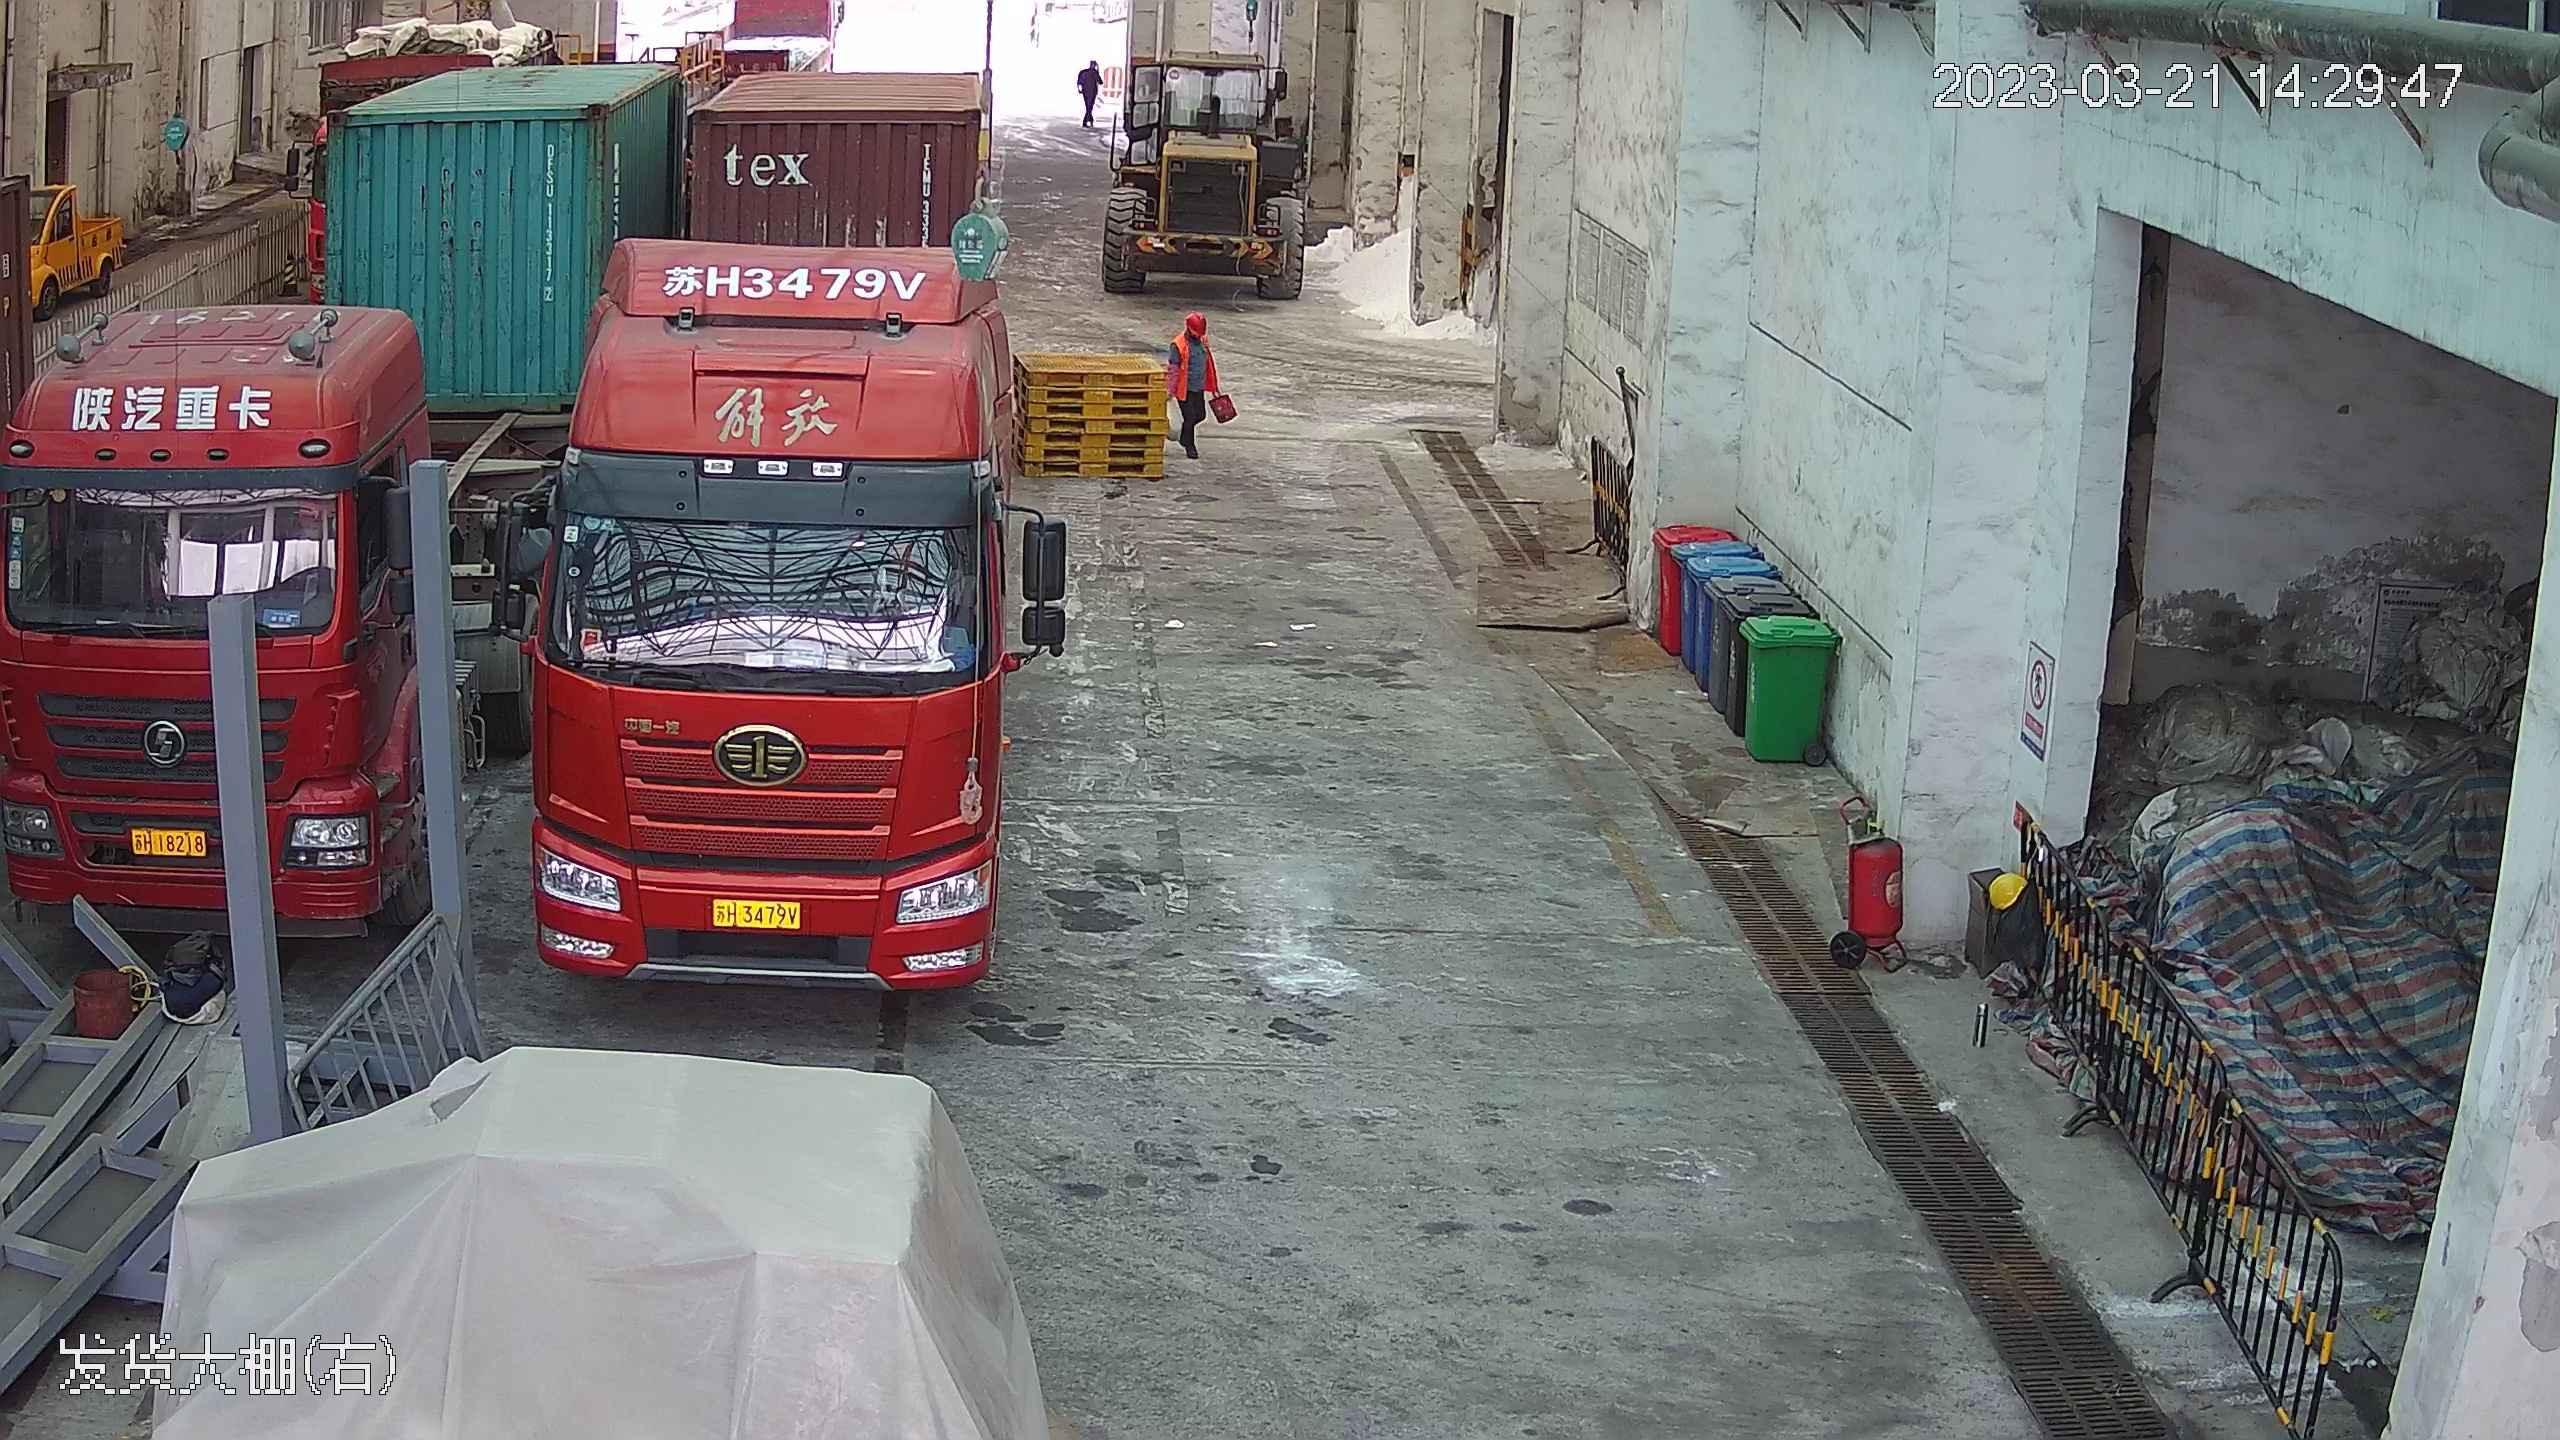head: (1172, 304, 1214, 355), (1075, 52, 1104, 94)
helmet: (1986, 867, 2027, 912), (1182, 305, 1207, 328)
people: (1166, 301, 1223, 465), (1074, 52, 1106, 129)
truck: (508, 16, 1041, 994), (0, 24, 475, 966)
